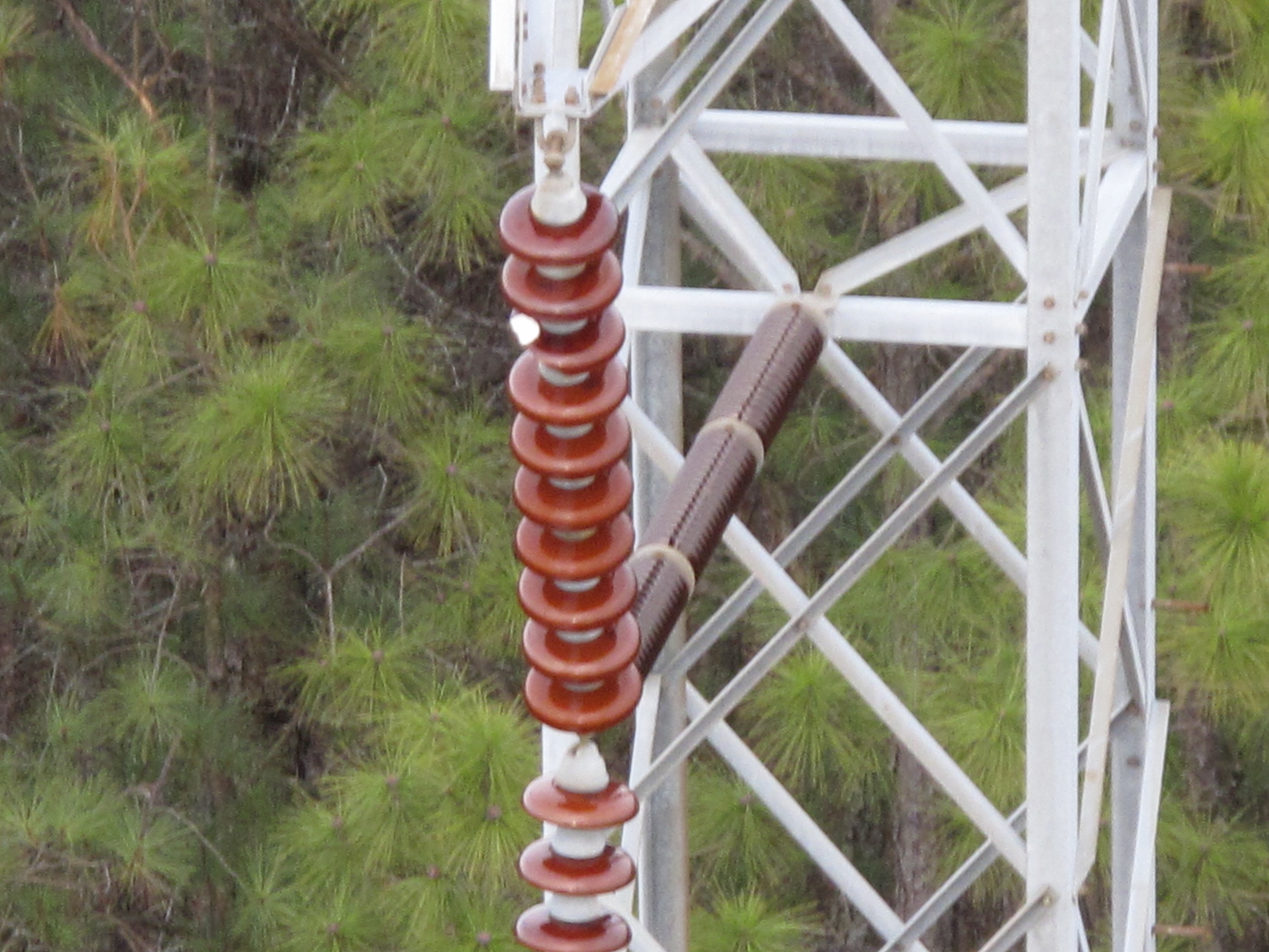damaged: (501, 299, 557, 358)
insulator: (493, 177, 646, 732), (615, 295, 825, 679), (518, 770, 642, 952)
